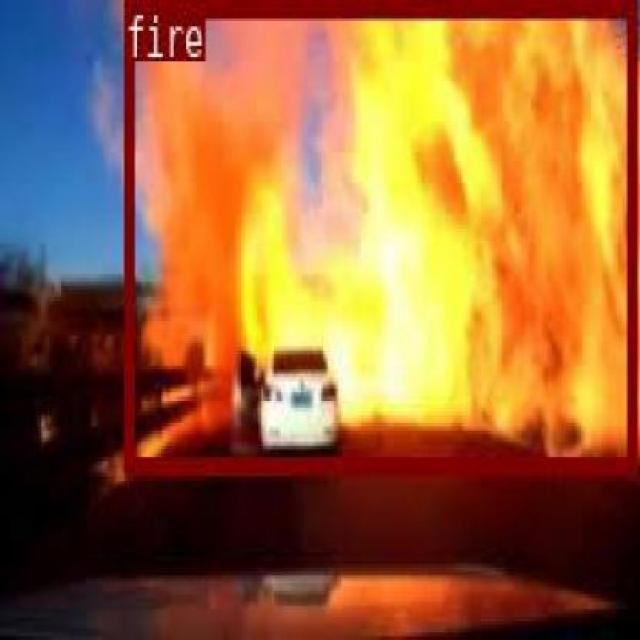Fire: (379, 234, 513, 469)
